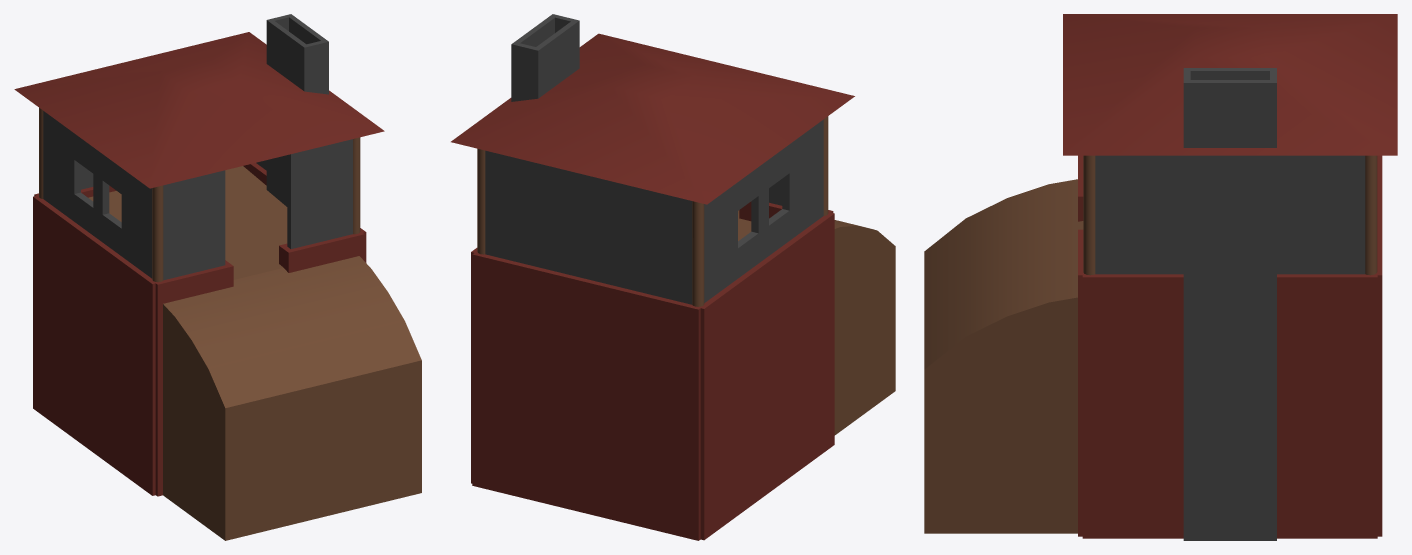
The model's file is House.fbx.
3 views of the same model, side by side, from view 1: azimuth 30°, elevation 25°; view 2: azimuth 150°, elevation 25°; view 3: azimuth 270°, elevation 25° (orthographic). The views are drawn at different scales.
Parts seen in each view (by area): view 1: House; view 2: House; view 3: House.
Boxes of the visible parts, x1,y1,x2,y2 form: House: (14,14,421,540); House: (451,14,895,540); House: (924,14,1397,540).
Bounding box in the file's own units: 718 × 1083 × 1015.
